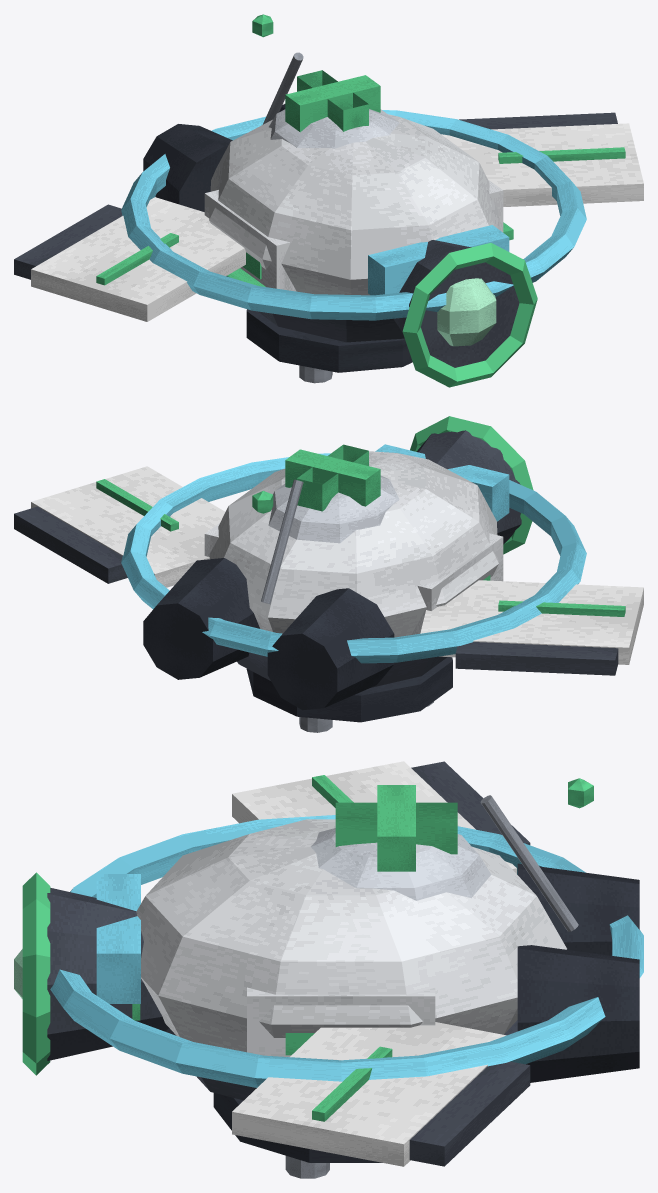
File: drone_healer.glb
The picture shows the model from 3 angles, top to bottom: view 1: azimuth 30°, elevation 25°; view 2: azimuth 150°, elevation 25°; view 3: azimuth 270°, elevation 25°; orthographic projection. The views are drawn at different scales.
Visible parts, largest first — view 1: drone_healer, halo; view 2: drone_healer, halo; view 3: drone_healer, halo.
Part boxes in pixels (x1,y1,x2,y2): drone_healer: (14,14,643,387); halo: (121,110,586,320); drone_healer: (14,416,643,732); halo: (121,453,586,663); drone_healer: (14,761,639,1178); halo: (50,815,643,1087).
Bounding box in the file's own units: 1.64 × 0.715 × 1.14.
2 materials, 2 textured.
